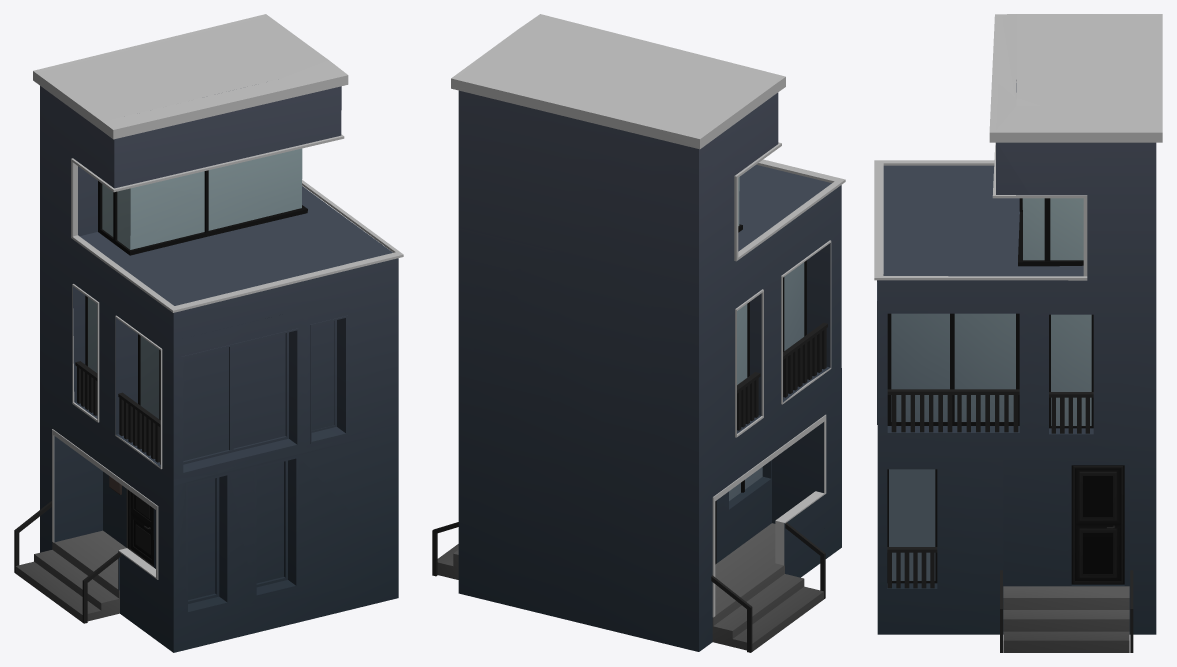
The model's file is Town House Black.fbx.
The picture shows the model from 3 angles, left to right: view 1: azimuth 30°, elevation 25°; view 2: azimuth 150°, elevation 25°; view 3: azimuth 270°, elevation 25°; orthographic projection. The views are drawn at different scales.
Parts seen in each view (by area): view 1: Cube.145; view 2: Cube.145; view 3: Cube.145.
Boxes of the visible parts, x1,y1,x2,y2 form: Cube.145: (14,14,403,652); Cube.145: (432,14,845,652); Cube.145: (874,14,1162,652).
Bounding box in the file's own units: 1565 × 2425 × 1258.
